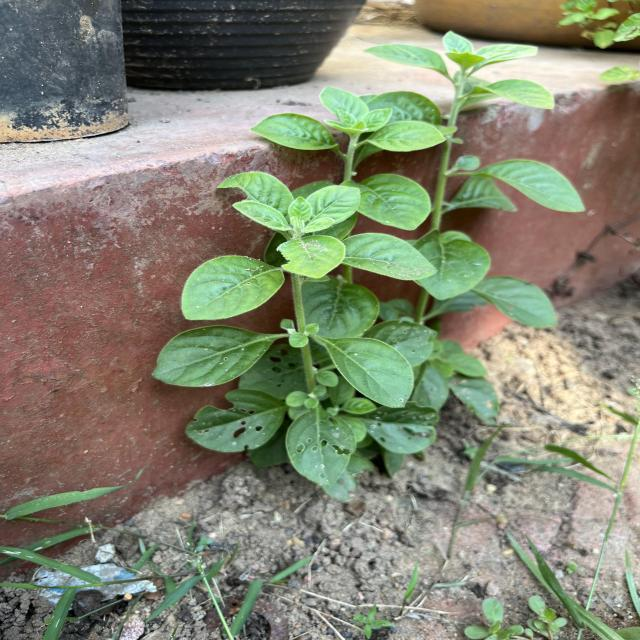Aerva lanata: (147, 324, 275, 388), (178, 252, 285, 322)
